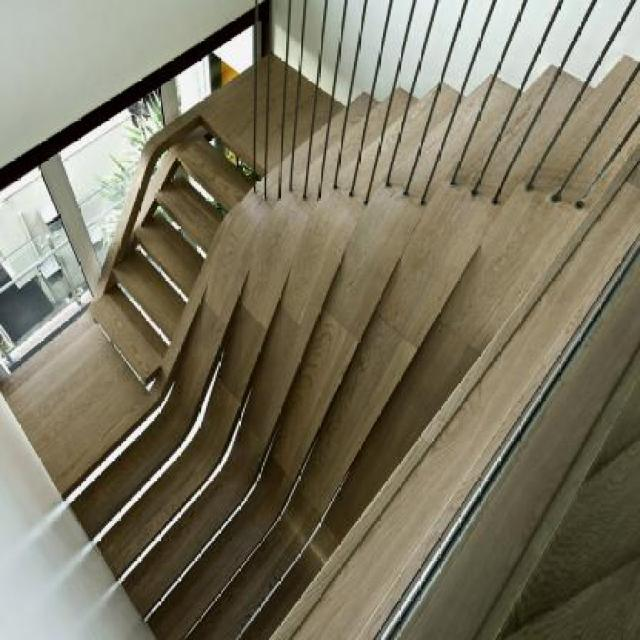stair: (27, 13, 273, 404), (292, 31, 639, 284)
